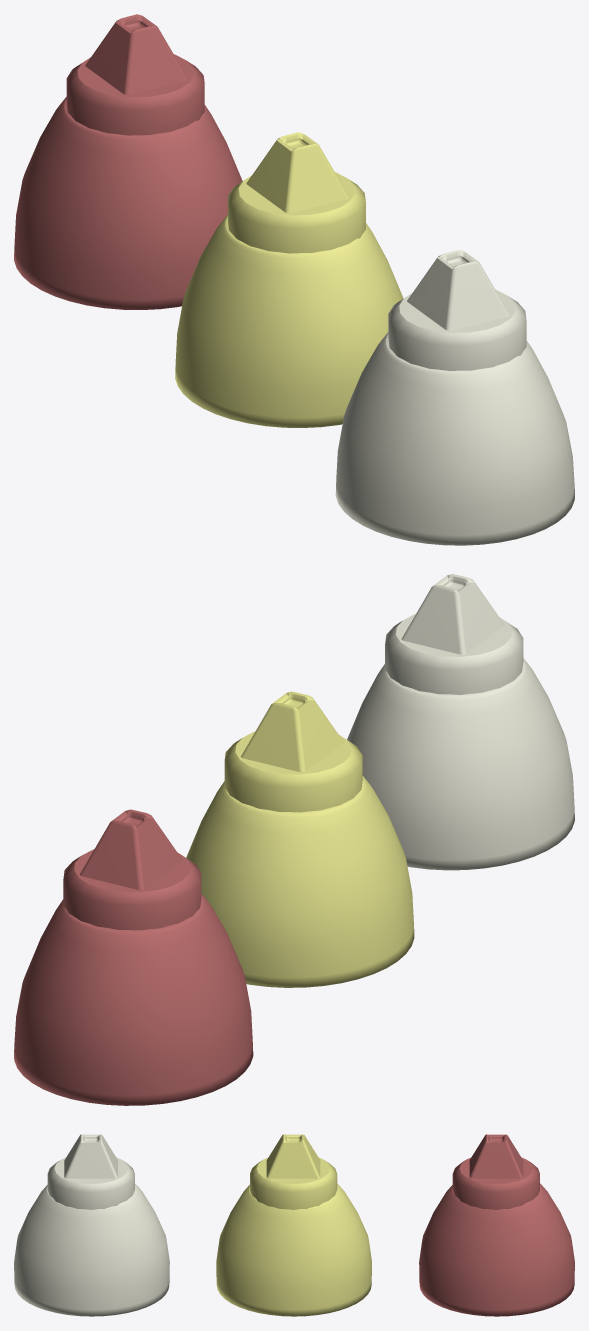
The model's file is OBJ_ADEREZOS.fbx.
The picture shows the model from 3 angles, top to bottom: view 1: azimuth 30°, elevation 25°; view 2: azimuth 150°, elevation 25°; view 3: azimuth 270°, elevation 25°; orthographic projection. The views are drawn at different scales.
Parts seen in each view (by area): view 1: OBJ_MAYONESA, OBJ_CAPSU, OBJ_MOSTAZA; view 2: OBJ_CAPSU, OBJ_MOSTAZA, OBJ_MAYONESA; view 3: OBJ_CAPSU, OBJ_MOSTAZA, OBJ_MAYONESA.
Boxes of the visible parts, x1=… form: OBJ_MAYONESA: x1=335, y1=250, x2=574, y2=545; OBJ_CAPSU: x1=14, y1=14, x2=242, y2=309; OBJ_MOSTAZA: x1=175, y1=132, x2=403, y2=427; OBJ_CAPSU: x1=14, y1=809, x2=253, y2=1105; OBJ_MOSTAZA: x1=186, y1=691, x2=414, y2=987; OBJ_MAYONESA: x1=347, y1=574, x2=574, y2=870; OBJ_CAPSU: x1=419, y1=1134, x2=574, y2=1316; OBJ_MOSTAZA: x1=216, y1=1134, x2=371, y2=1316; OBJ_MAYONESA: x1=14, y1=1134, x2=169, y2=1316.
Bounding box in the file's own units: 4.93 × 5.47 × 18.48.
